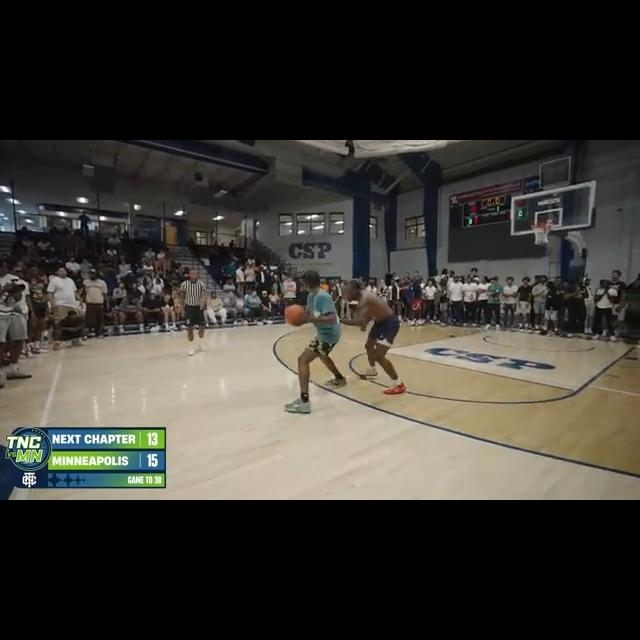basketball: (285, 302, 306, 325)
hoop: (530, 219, 550, 245)
